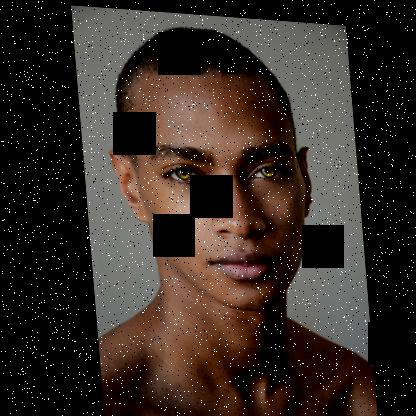Male: (100, 61, 318, 310)
